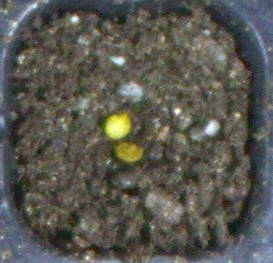pepper seed: (42, 61, 186, 223), (37, 43, 170, 182)
